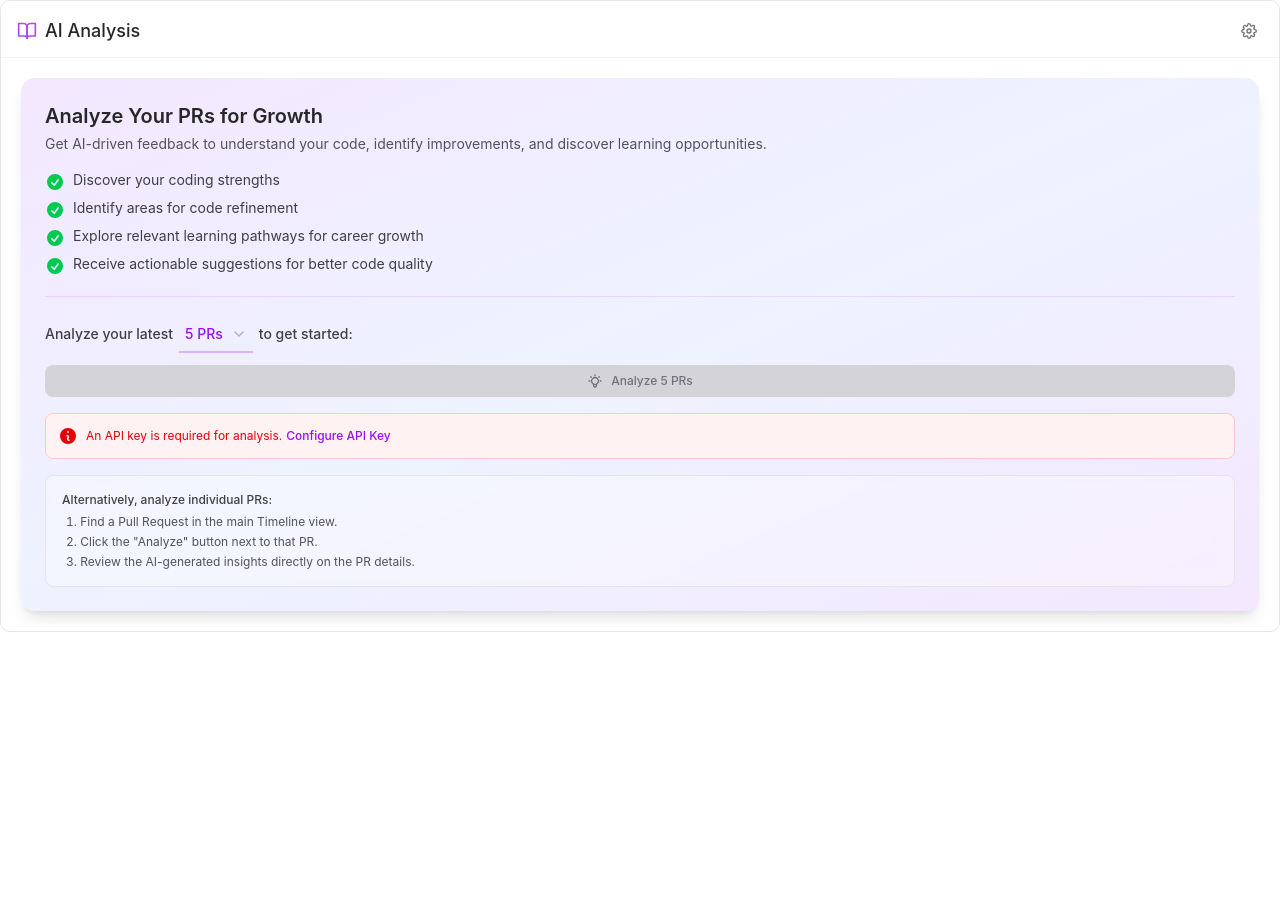
Test: CodeQualityInsights › UI Interactions › shows configuration panel when settings button is clicked
Click the 1st button.
click(1249, 31)  # box [1235,17,1263,45]
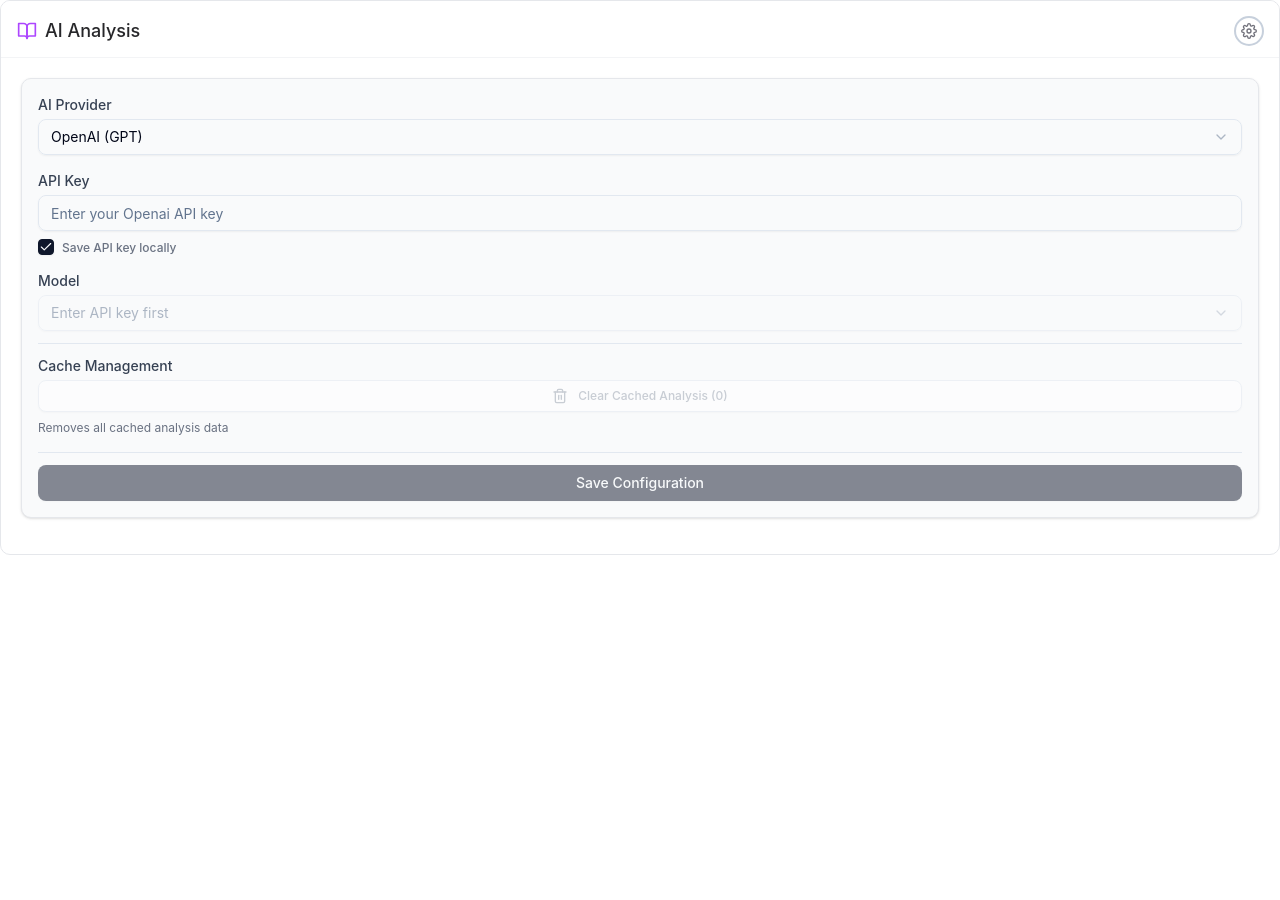
Expected: the text "AI Provider" is shown, [38,96,112,113]
